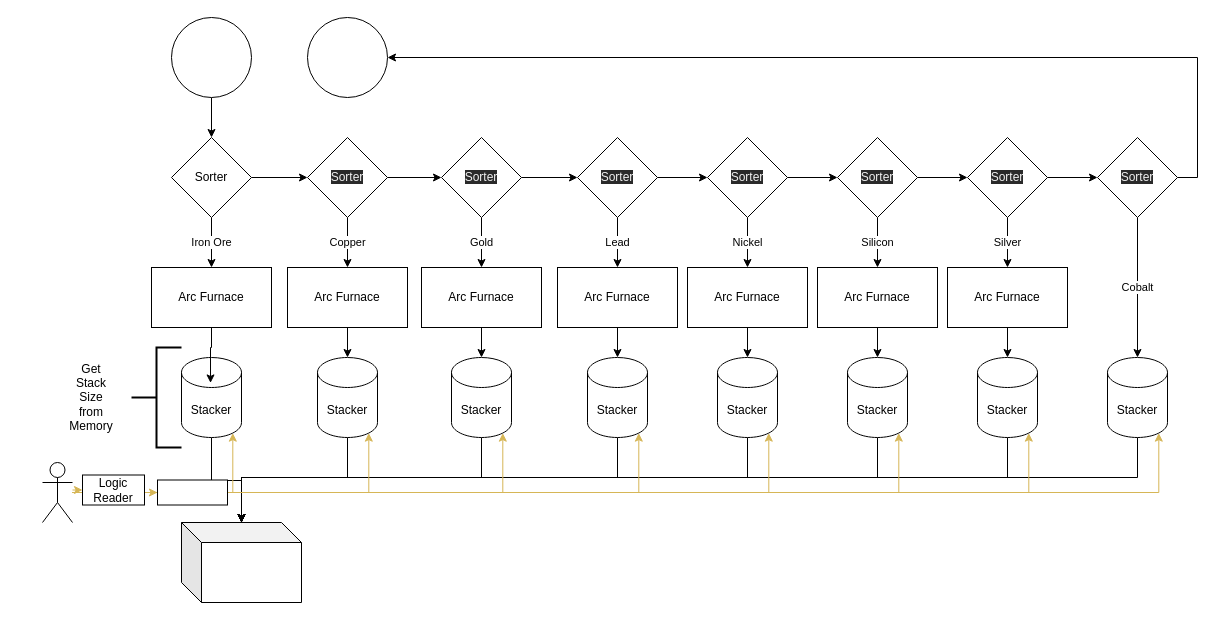
Image size: 1223x620. Some labels were removed from this diagram. Here are the shapes that lost their labels. From the top down, the centre of each, then its label:
At pixel 211 57: "Chute bin".
At pixel 347 57: "Chute return".
At pixel 57 492: "Lever to emtpy stackers".
At pixel 192 492: "Batch Writer".
At pixel 241 562: "Vending Machine".
